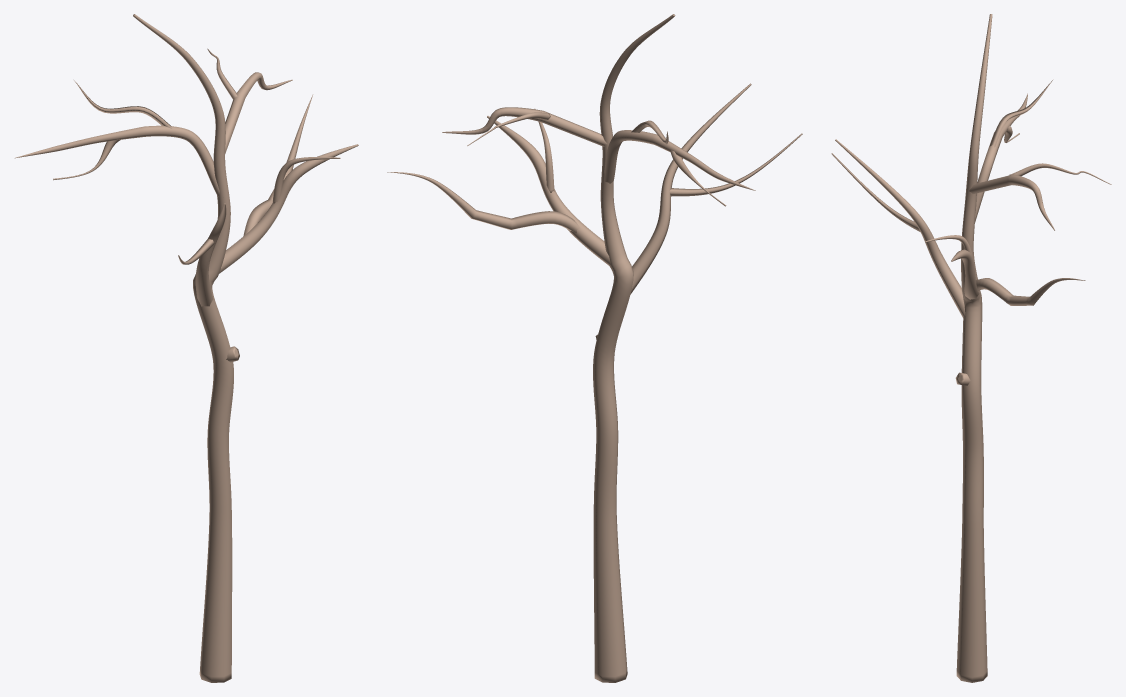
The model's file is pine_tree01.fbx.
The picture shows the model from 3 angles, left to right: view 1: azimuth 30°, elevation 25°; view 2: azimuth 150°, elevation 25°; view 3: azimuth 270°, elevation 25°; orthographic projection. The views are drawn at different scales.
Visible parts, largest first — view 1: Tube; view 2: Tube; view 3: Tube.
Part boxes in pixels (<box>): Tube: <box>14,14,358,682</box>; Tube: <box>387,14,802,682</box>; Tube: <box>831,14,1111,682</box>.
Size of the model in its own units: 263 by 512 by 206.
